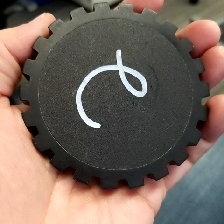gear: (18, 1, 211, 191)
